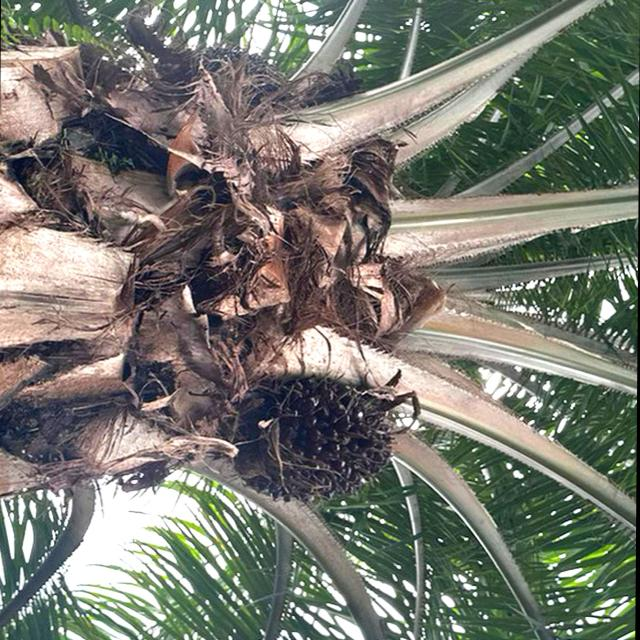almost: (219, 373, 401, 510)
